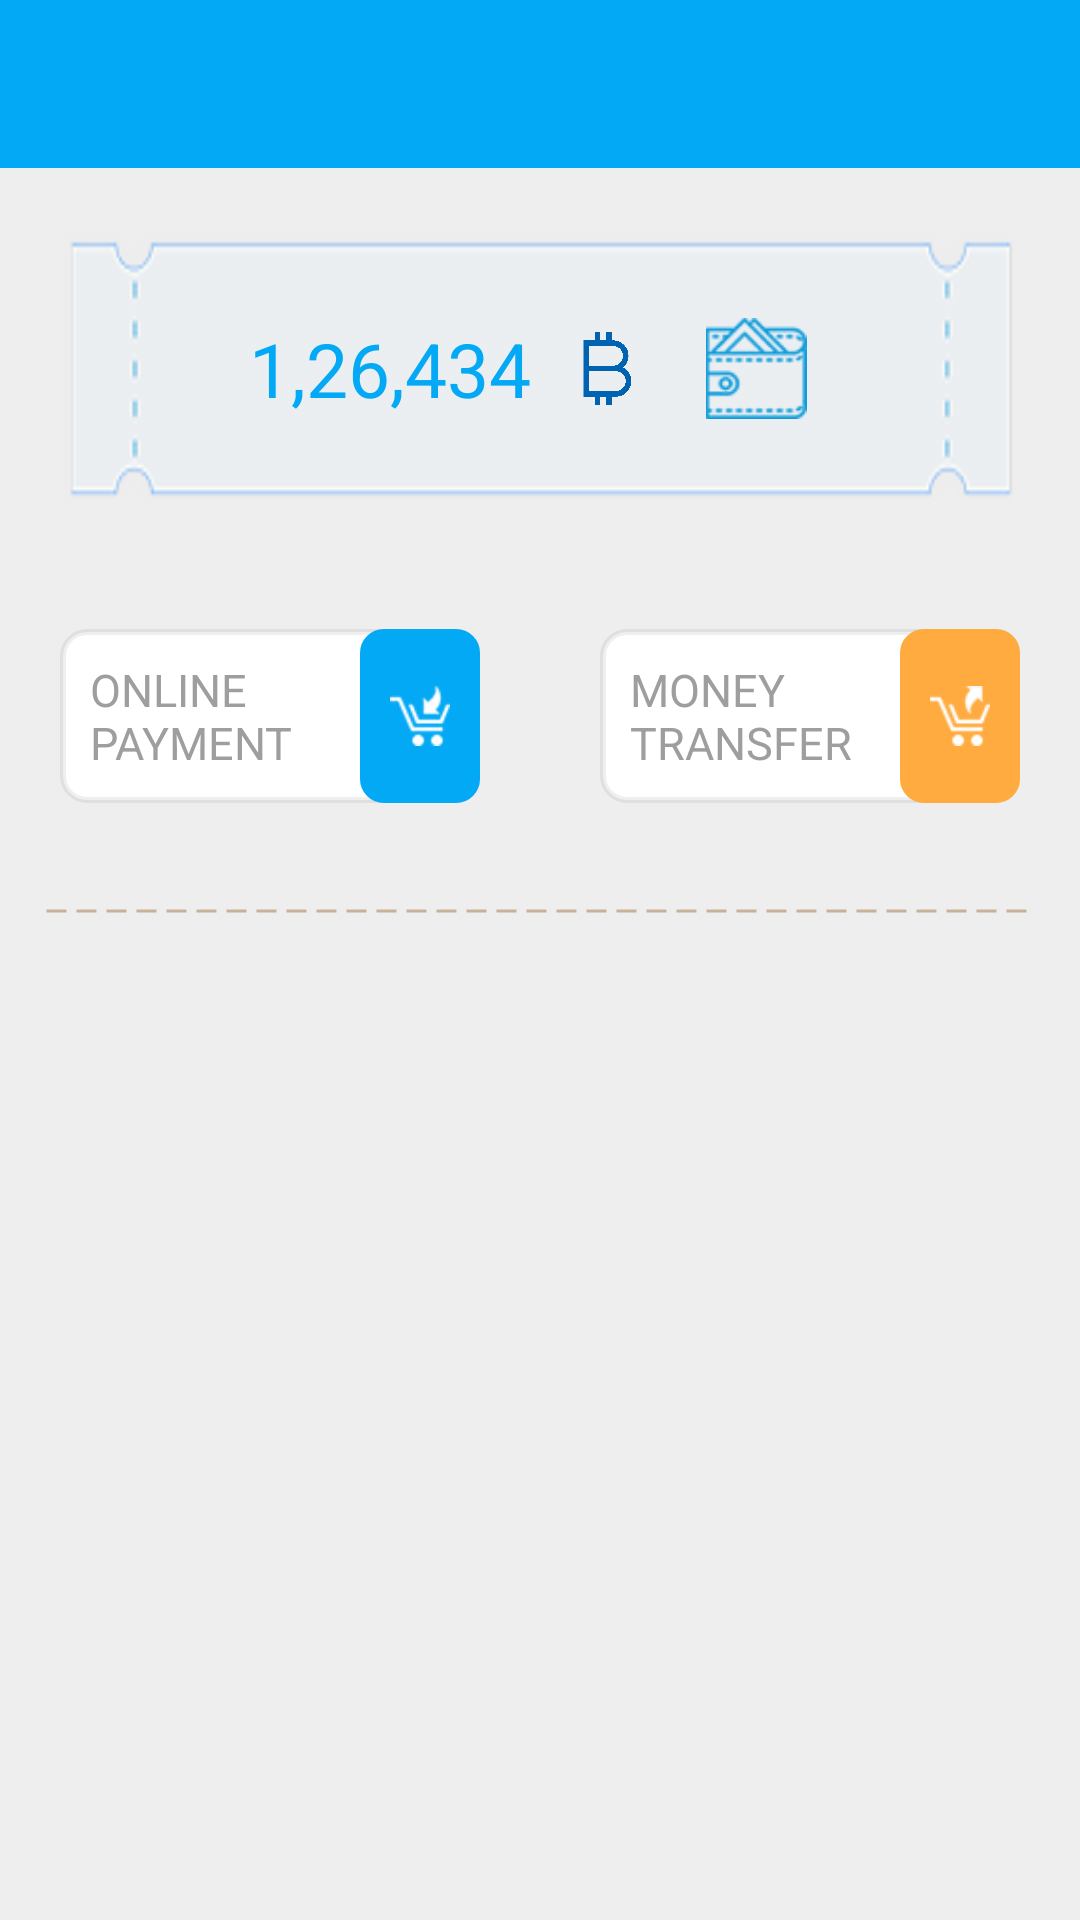

Icons on this 1080px x 1920px Android screen, each with its box as bbox=(x1, y1, x2, y2):
buy: bbox=(360, 629, 480, 803)
sell: bbox=(900, 629, 1020, 803)
walletii: bbox=(706, 318, 807, 419)
